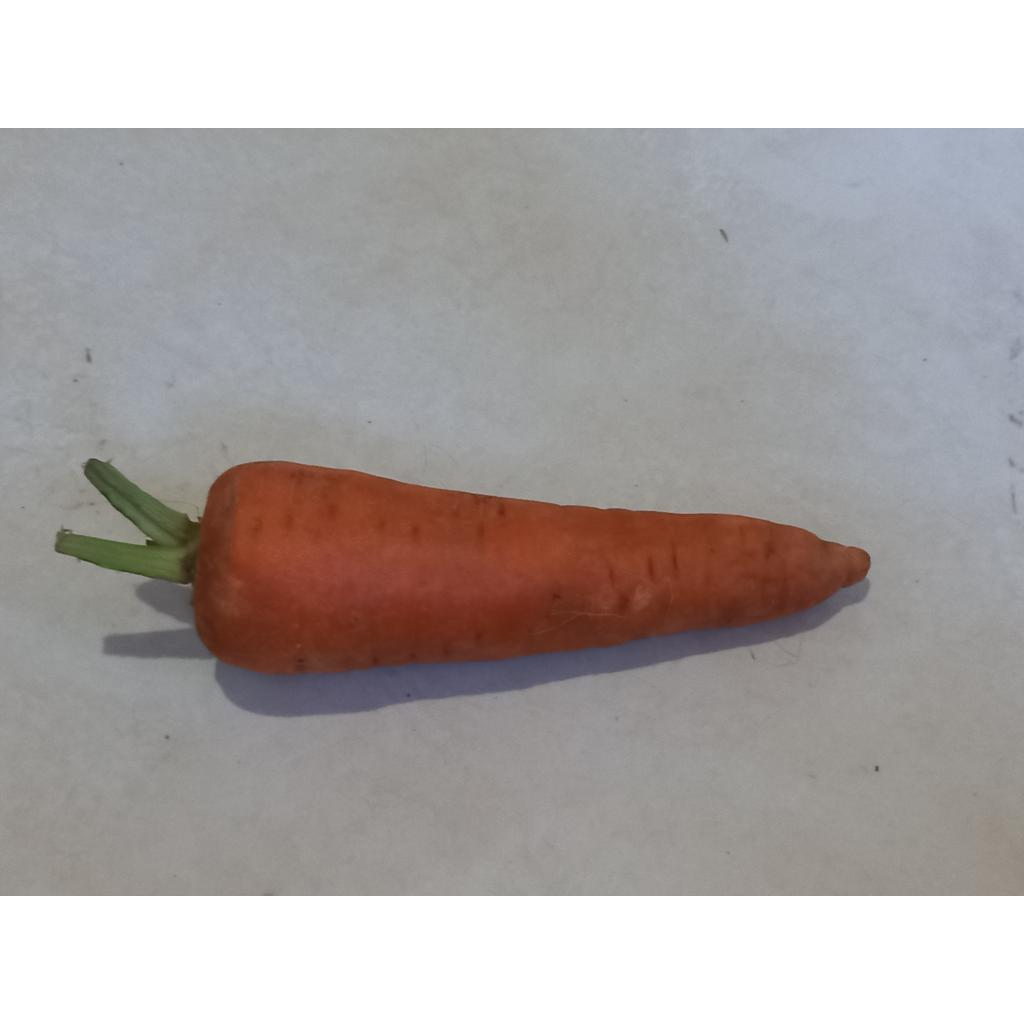carrot: (194, 462, 870, 674)
